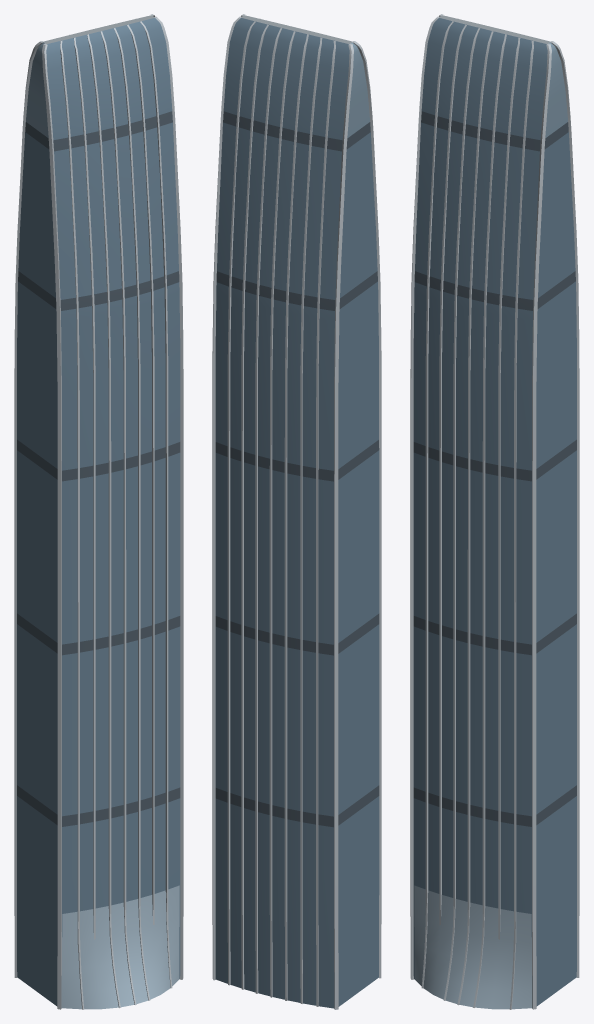
The model's file is shenzhen-kk100.glb.
3 views of the same model, side by side, from view 1: azimuth 30°, elevation 25°; view 2: azimuth 150°, elevation 25°; view 3: azimuth 330°, elevation 25° (orthographic).
Visible parts, largest first — view 1: KK100; view 2: KK100; view 3: KK100.
Boxes of the visible parts, x1,y1,x2,y2 form: KK100: (14, 14, 183, 1009); KK100: (212, 14, 381, 1009); KK100: (410, 14, 579, 1009).
Bounding box in the file's own units: 61.41 × 442 × 53.38.
